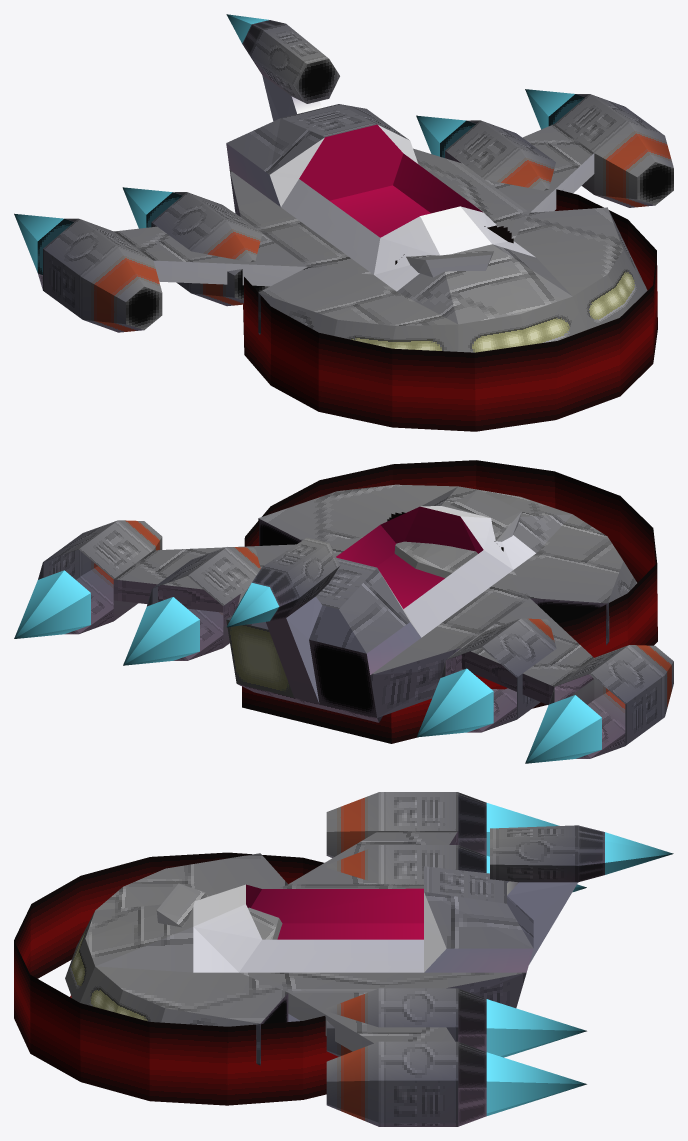
3 views of the same model, one above another, from view 1: azimuth 30°, elevation 25°; view 2: azimuth 150°, elevation 25°; view 3: azimuth 270°, elevation 25° (orthographic).
Parts seen in each view (by area): view 1: part0, part3, part1, part11; view 2: part0, part1, part3, part11; view 3: part0, part3, part1, part11.
Boxes of the visible parts, x1,y1,x2,y2 form: part0: [122, 14, 647, 352]; part3: [243, 189, 657, 431]; part1: [14, 89, 673, 332]; part11: [406, 251, 493, 277]; part0: [123, 484, 636, 737]; part1: [14, 520, 673, 763]; part3: [242, 460, 657, 743]; part11: [394, 489, 521, 578]; part0: [65, 825, 673, 1065]; part3: [14, 852, 338, 1105]; part1: [288, 792, 586, 1126]; part11: [156, 883, 282, 939].
Size of the model in its own units: 1.13 by 0.3984 by 1.11.
19 materials, 17 textured.
